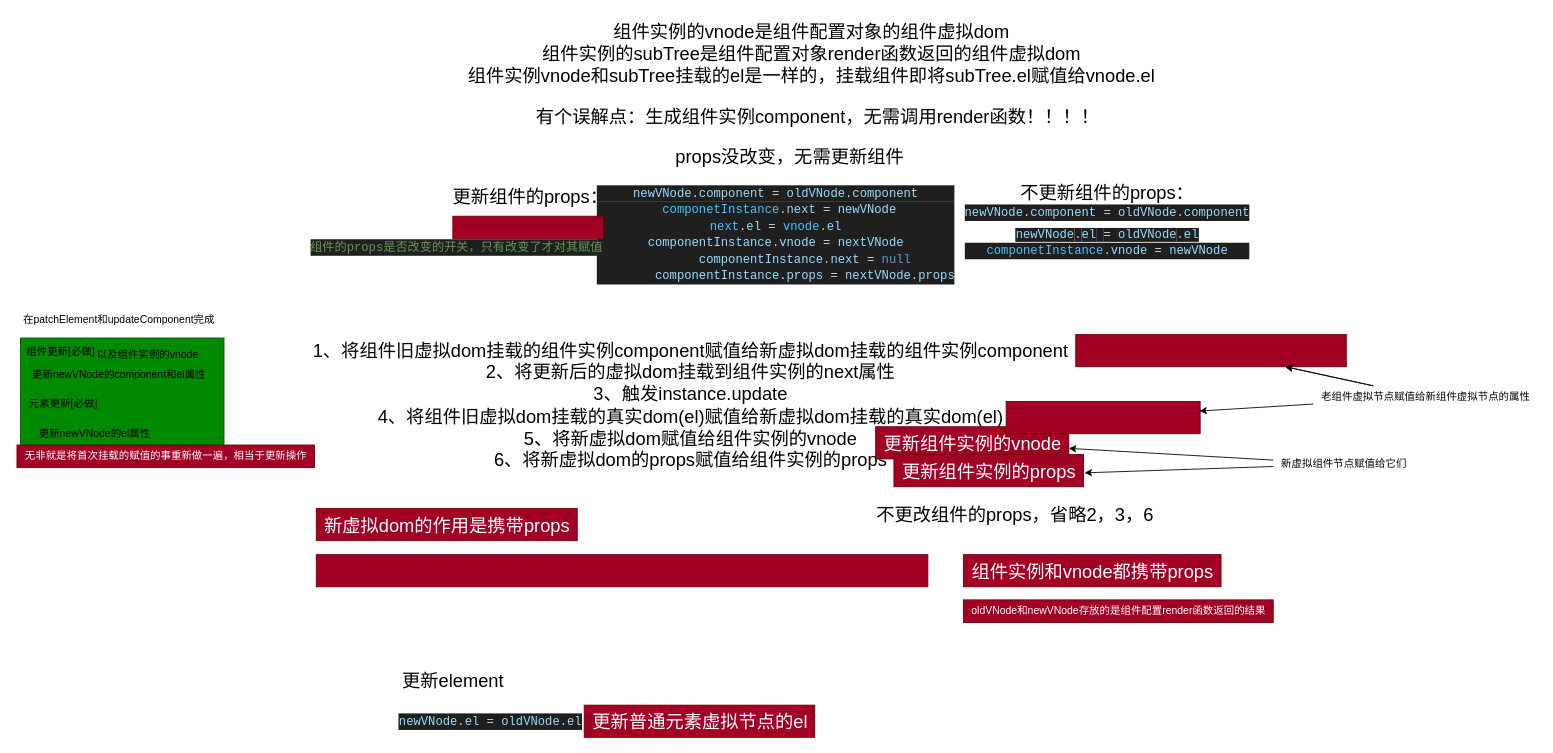
Image size: 1553x753. Some labels were removed from this diagram. Each missing label, with the box of its shape:
引入了组件实例的next的概念: (452, 215, 603, 239)
更新组件虚拟节点的component: (1075, 334, 1346, 367)
更新组件虚拟节点的el: (1005, 401, 1200, 434)
虚拟dom挂载组件实例【component】先操作、真实dom【el属性】后操作: (315, 554, 928, 587)
